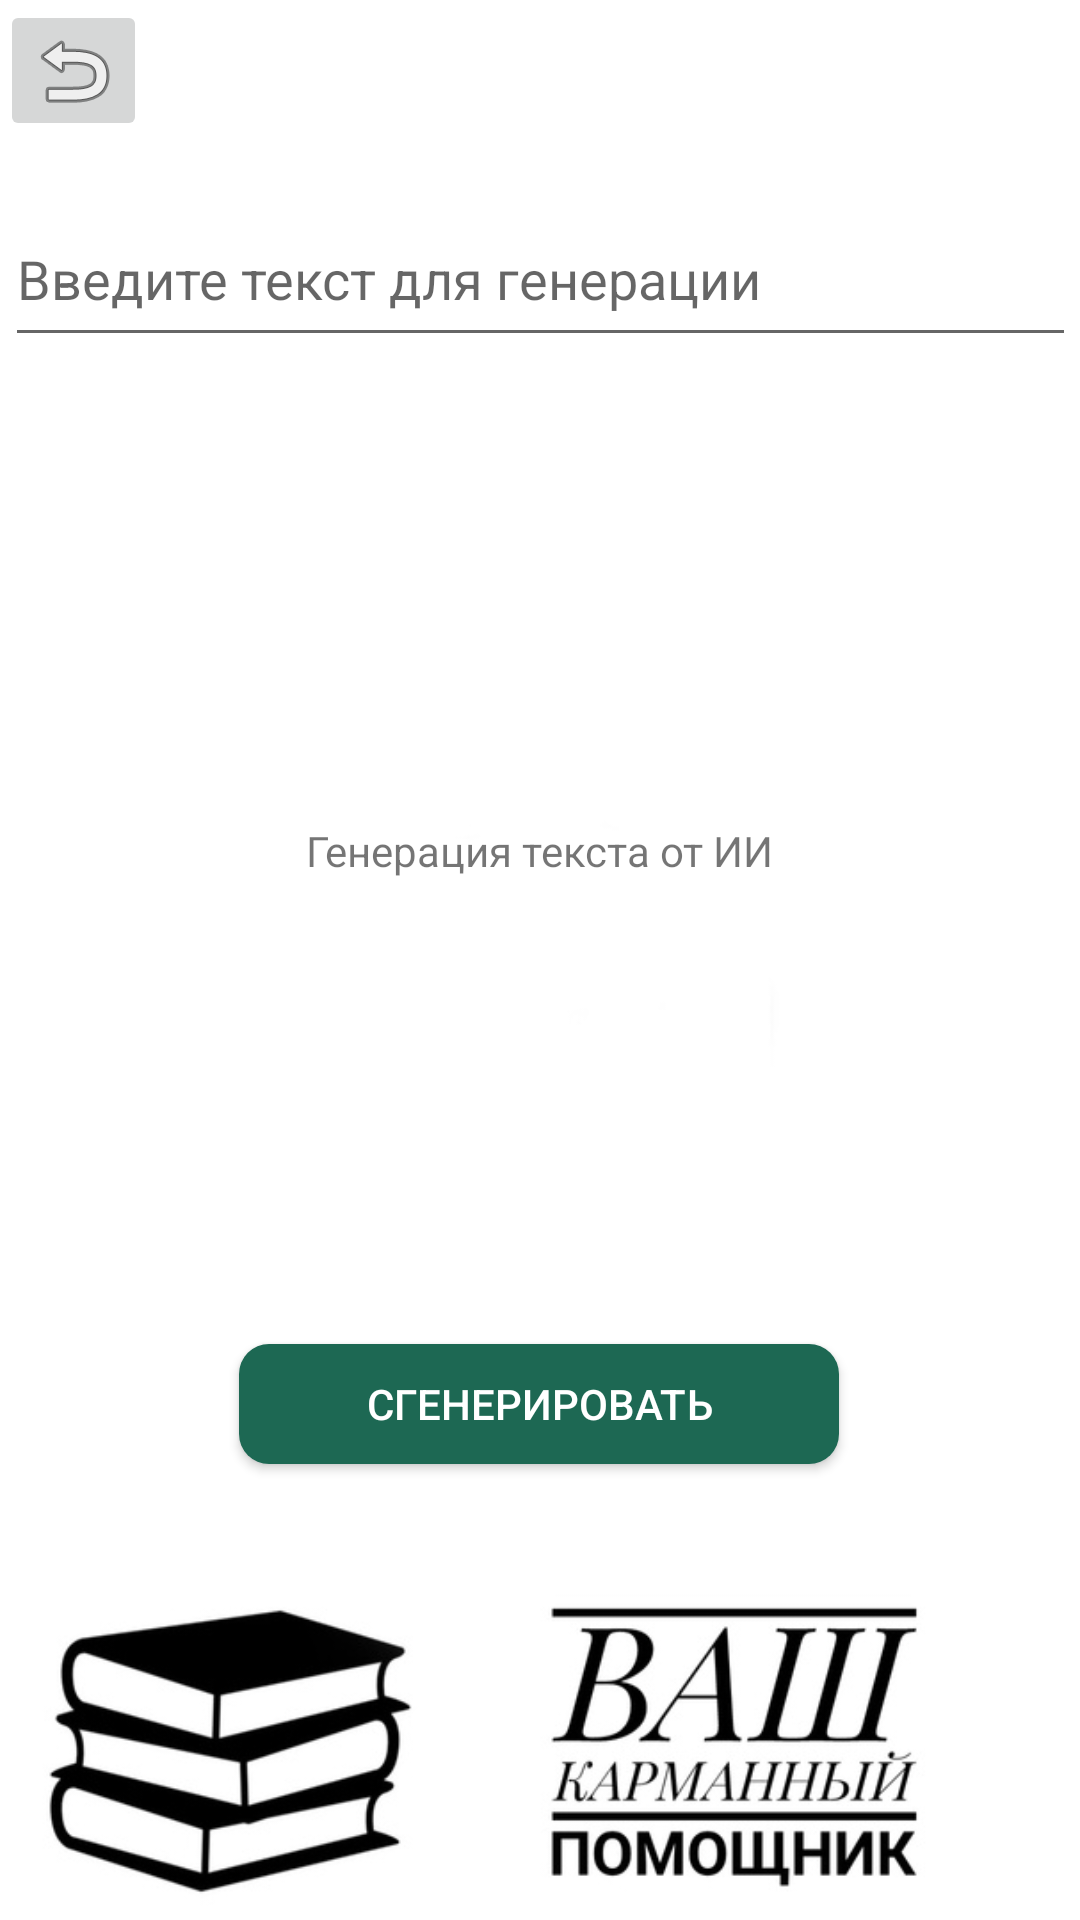

Named icons in this screenshot (1080px x 1920px) and their centers, (x=x, y=y):
revert: (x=73, y=70)
